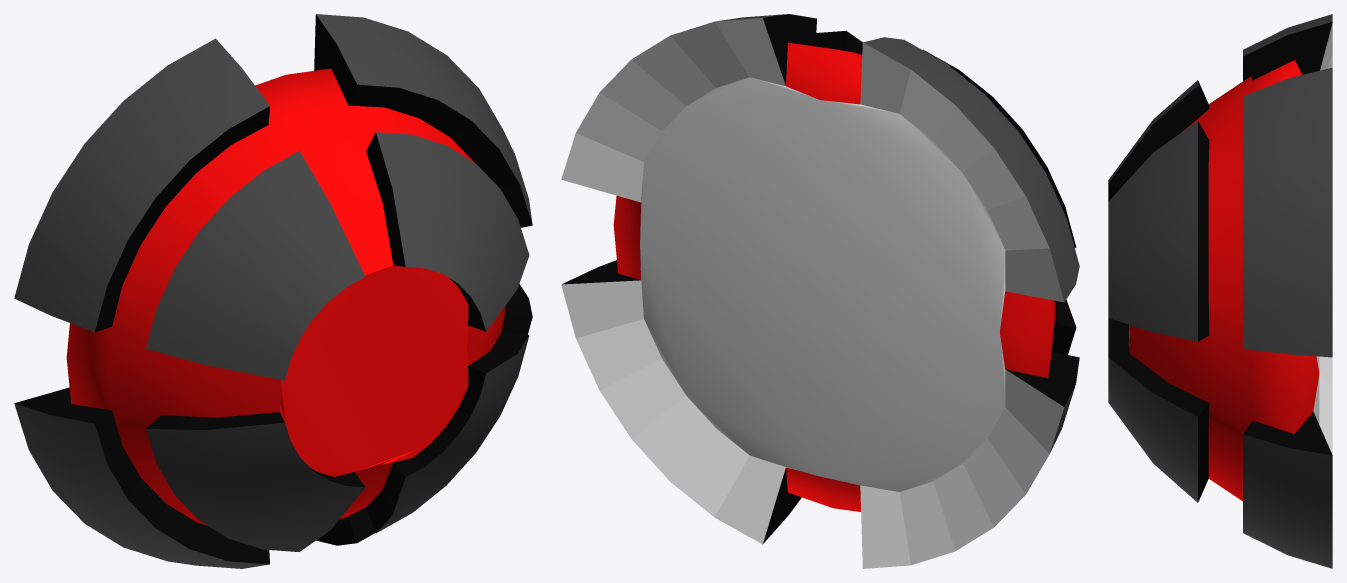
Rendered from bomb.obj.
3 views of the same model, side by side, from view 1: azimuth 30°, elevation 25°; view 2: azimuth 150°, elevation 25°; view 3: azimuth 270°, elevation 25° (orthographic). The views are drawn at different scales.
Visible parts, largest first — view 1: Cone001; view 2: Cone001; view 3: Cone001.
Part boxes in pixels (<box>): Cone001: <box>14,14,532,568</box>; Cone001: <box>561,14,1079,568</box>; Cone001: <box>1108,14,1332,568</box>.
Size of the model in its own units: 1.21 by 1.21 by 0.5.
